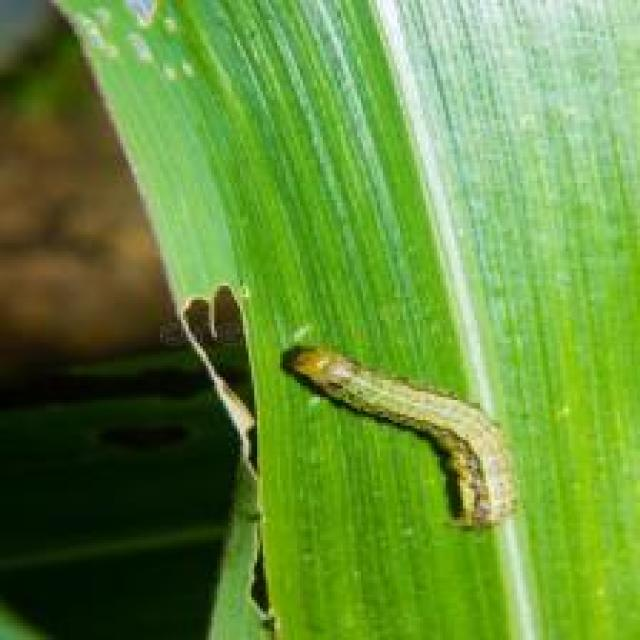Plaga: (277, 325, 531, 537)
